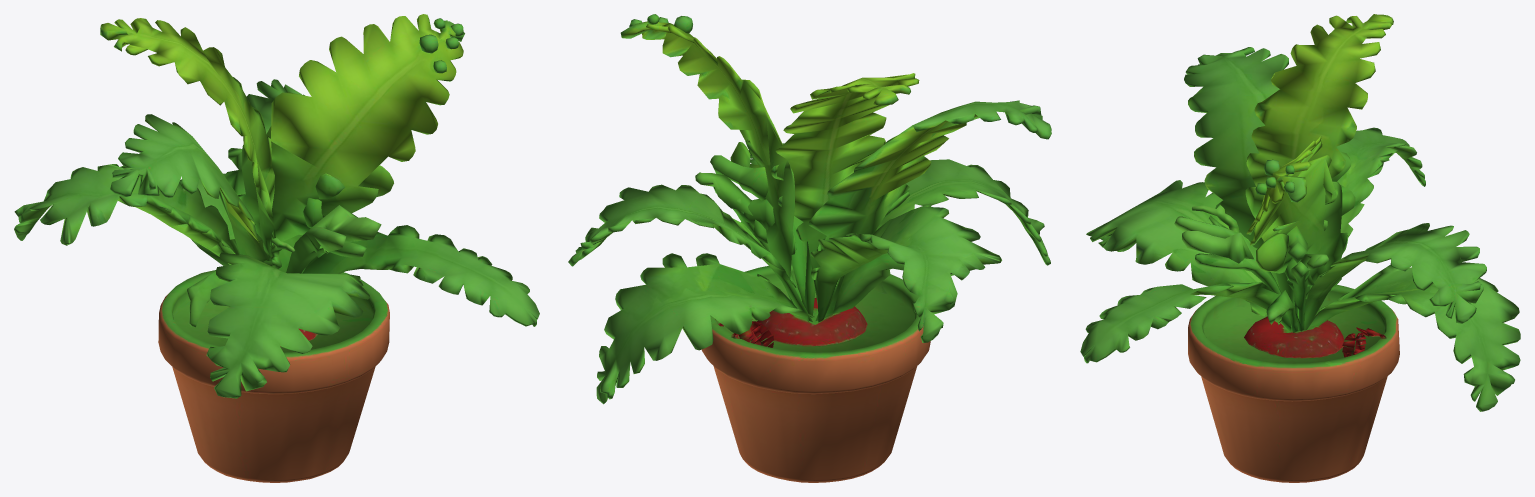
Rendered from Potted Fern Plant.glb.
3 views of the same model, side by side, from view 1: azimuth 30°, elevation 25°; view 2: azimuth 150°, elevation 25°; view 3: azimuth 270°, elevation 25° (orthographic). The views are drawn at different scales.
Visible parts, largest first — view 1: pb_node; view 2: pb_node; view 3: pb_node.
Part boxes in pixels (x1,y1,x2,y2): pb_node: [14, 14, 539, 482]; pb_node: [568, 14, 1051, 482]; pb_node: [1080, 14, 1520, 482].
Bounding box in the file's own units: 0.9434 × 0.9629 × 0.998.
Materials: 1 (1 with a texture image).
